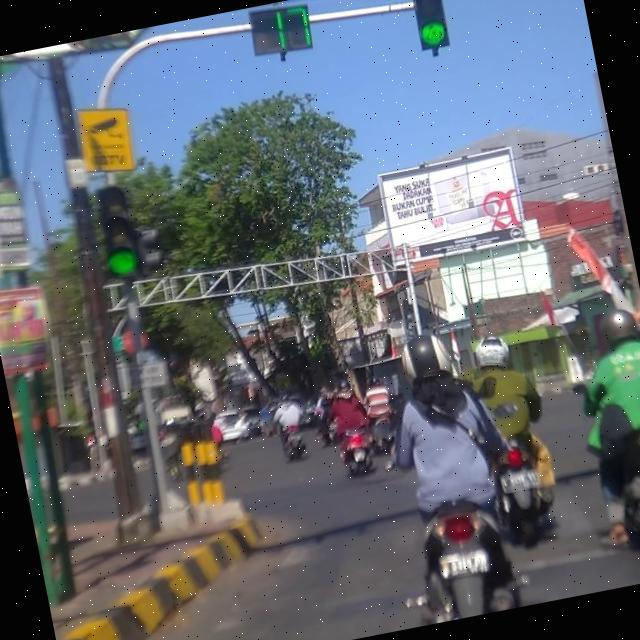green_light: (96, 182, 144, 281), (408, 0, 450, 52)
